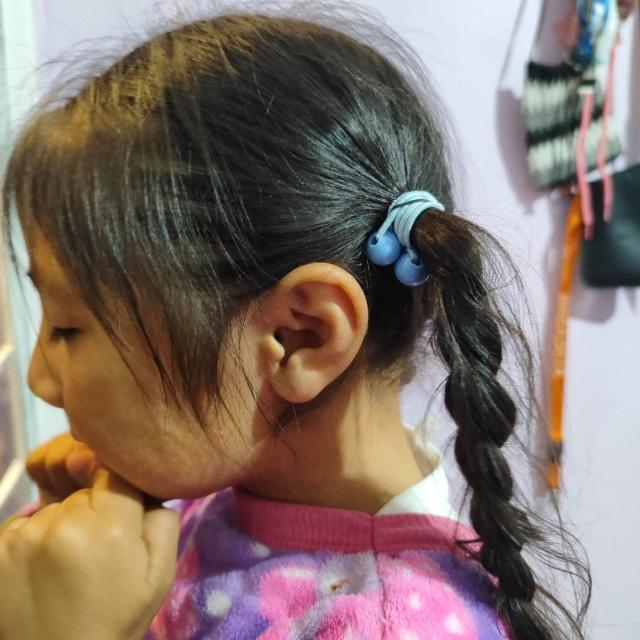ear: (265, 262, 368, 404)
